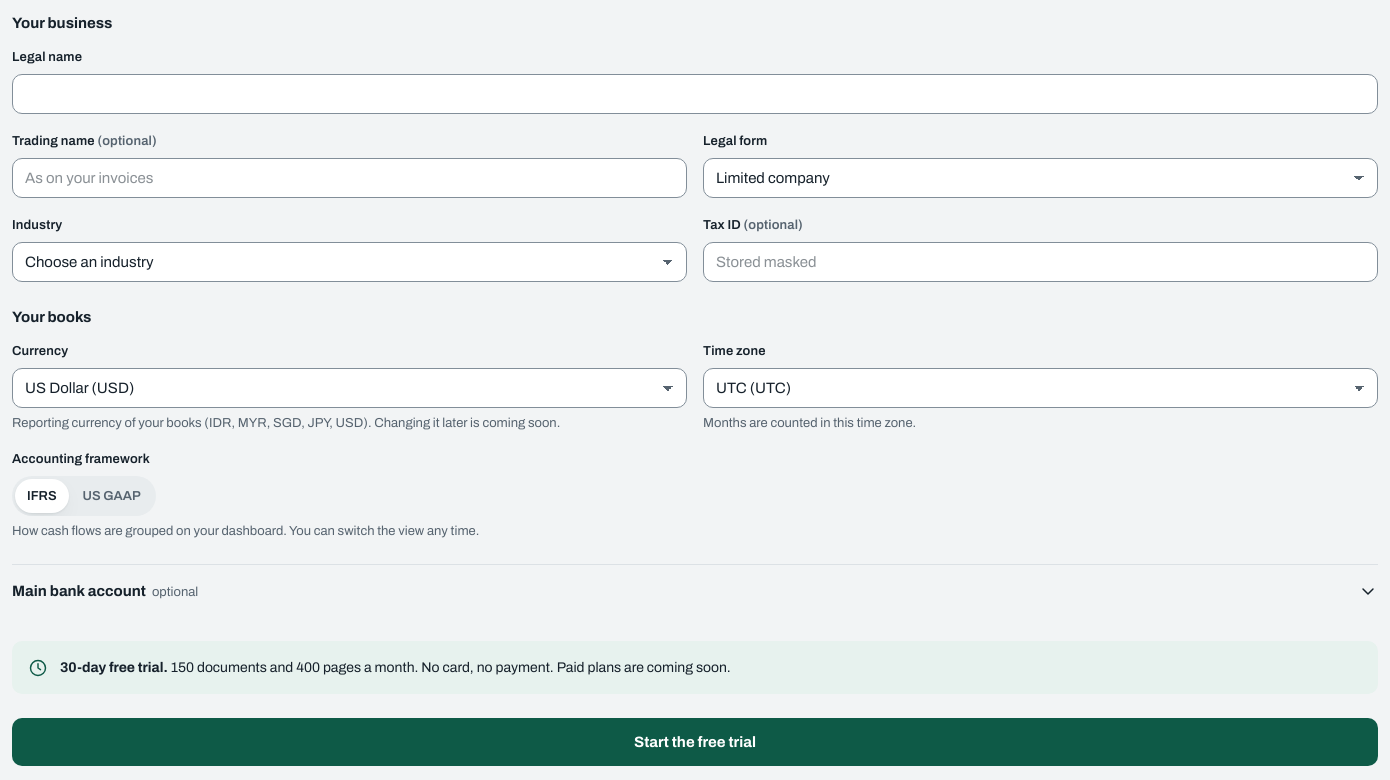
Test: CreateWorkspaceForm (AC-013-2) › puts the server field errors on the fields
Type "Synthetic Roasters Ltd" into the field labelled "Legal name" at (695, 94), box [12,74,1378,114]
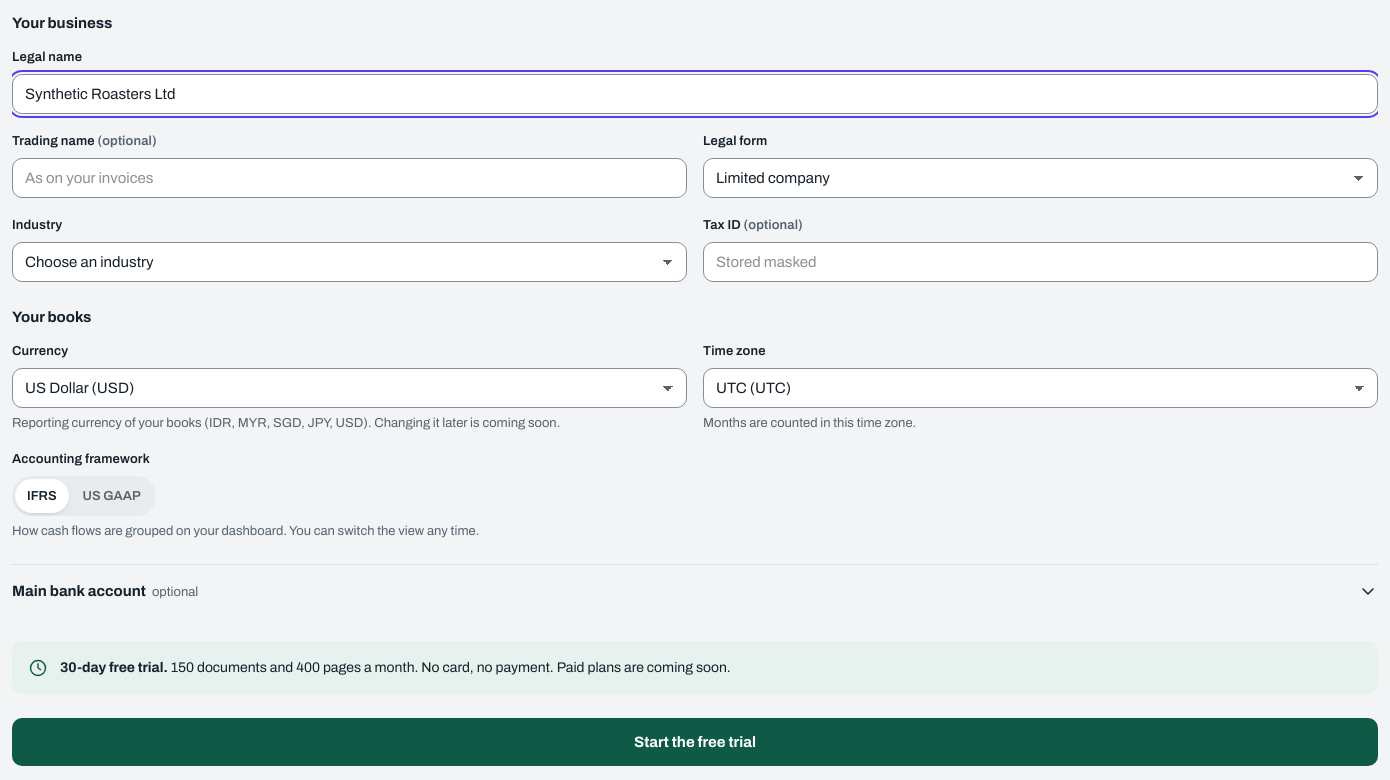
Click the button "Start the free trial" at (695, 742), box [12,718,1378,766]
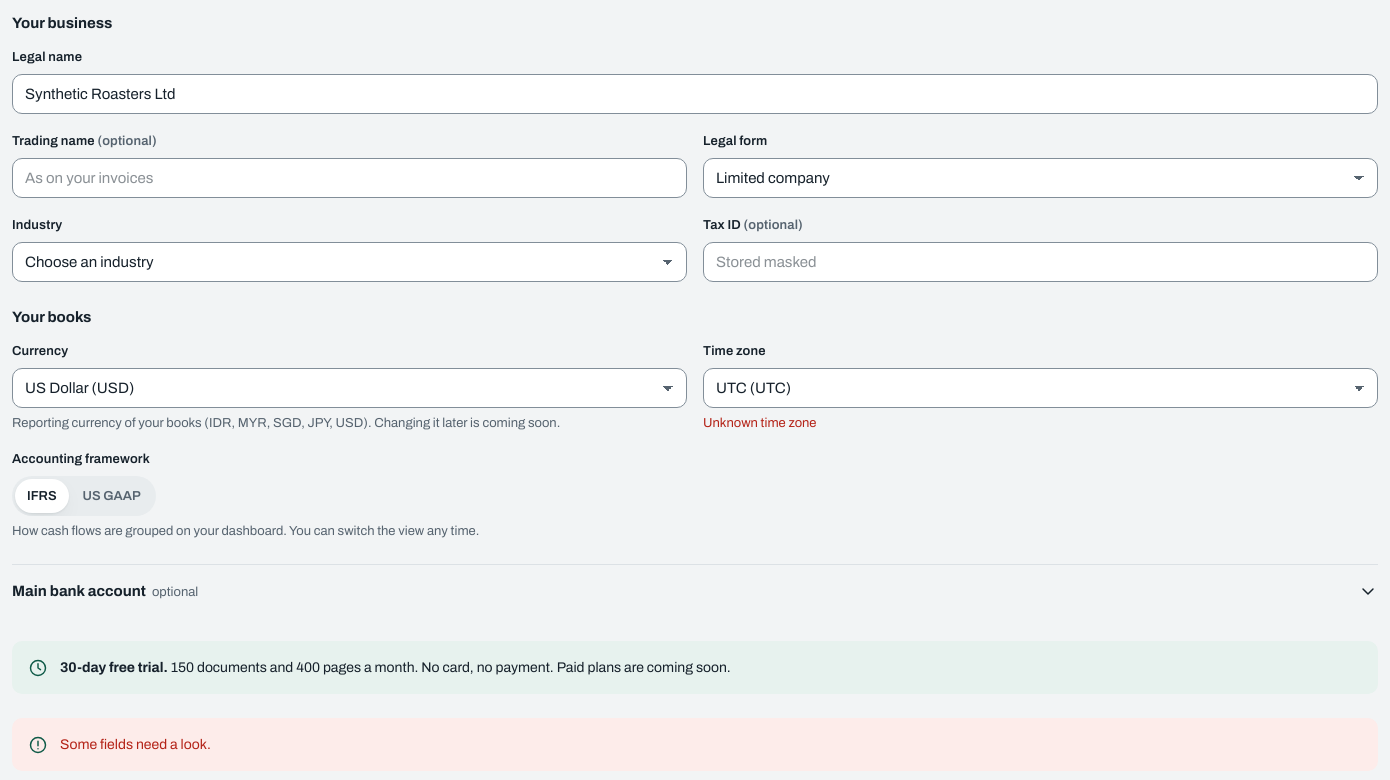
Now the text "Unknown time zone" is shown, box [703,416,816,430]
